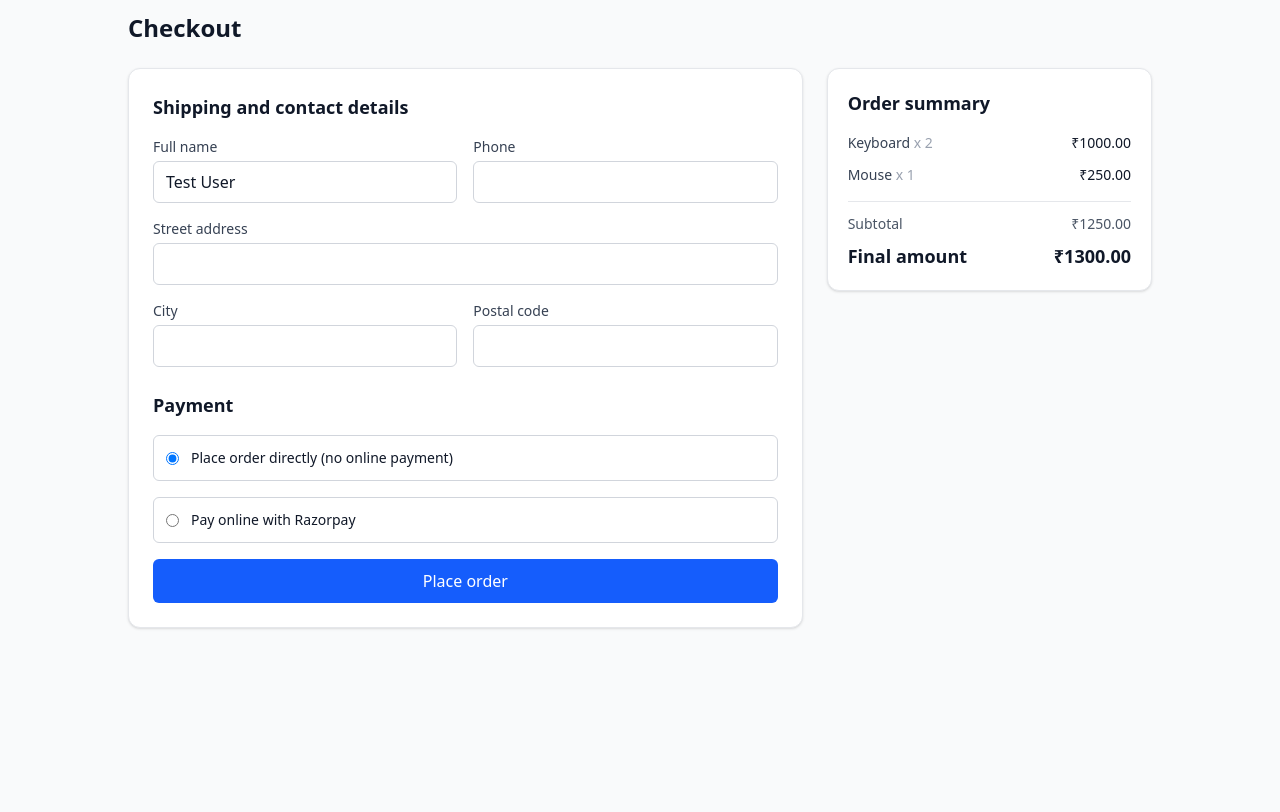
Test: CheckoutPage › validation › shows an error for every missing field and sends nothing
Clear the field below "Full name" at (305, 182), box [153,161,457,203]
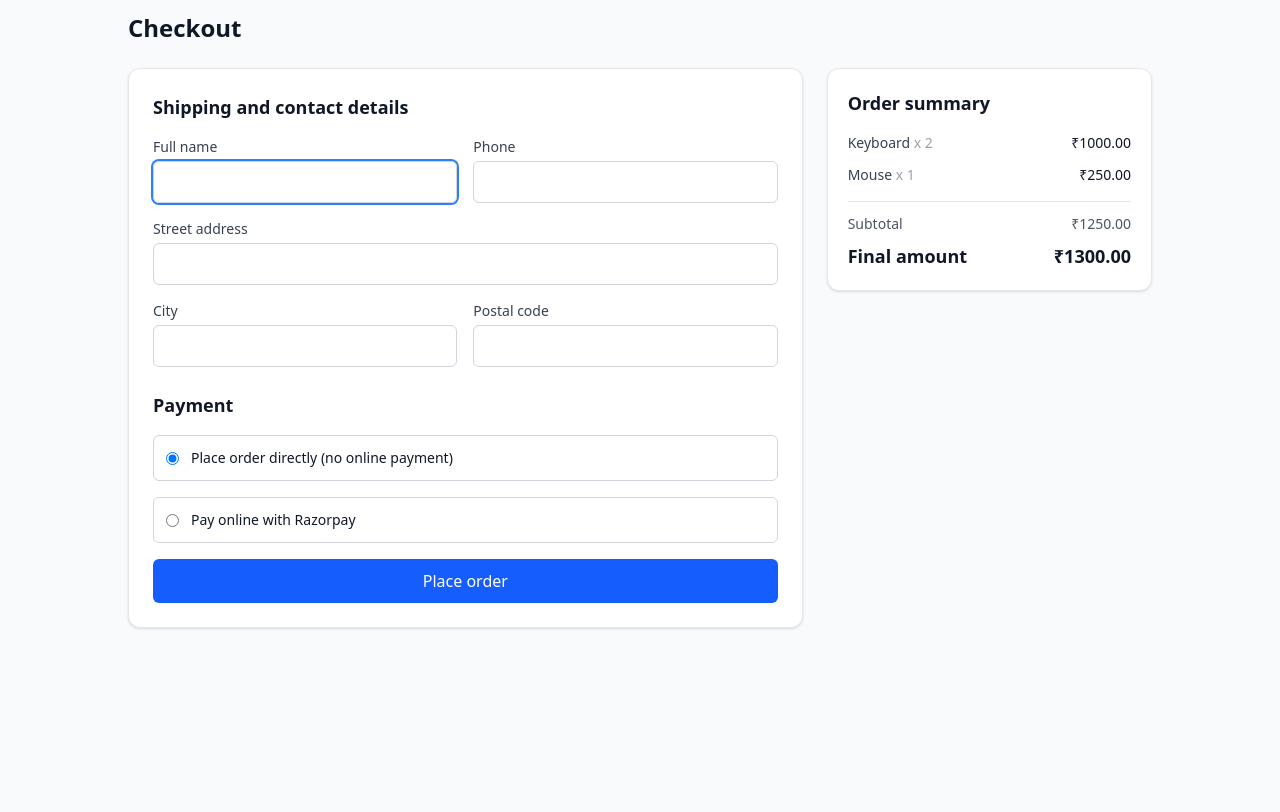
Click the button "Place order".
click(465, 581)  # box [153,559,778,603]
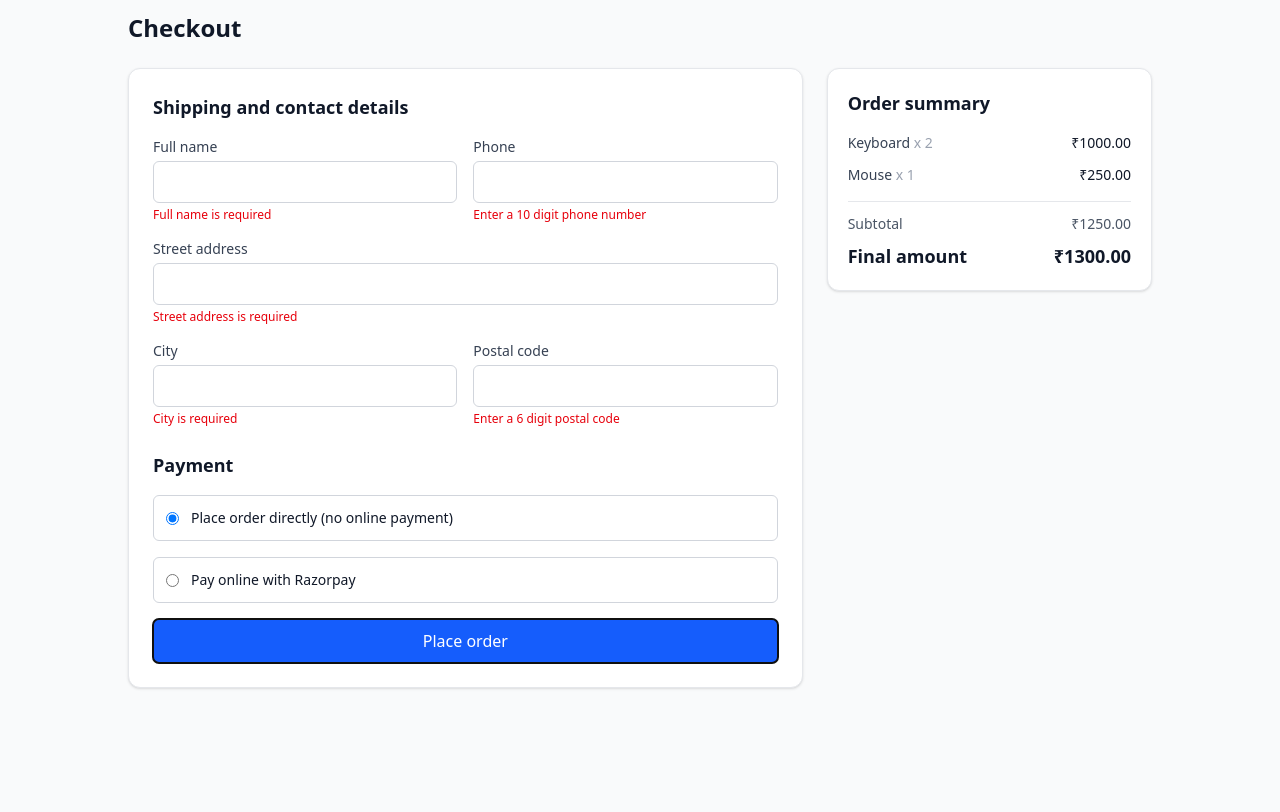
Now the text "Full name is required" is shown, box [153,206,271,223]
Now the text "Enter a 10 digit phone number" is shown, box [473,206,646,223]
Now the text "Street address is required" is shown, box [153,308,297,325]
